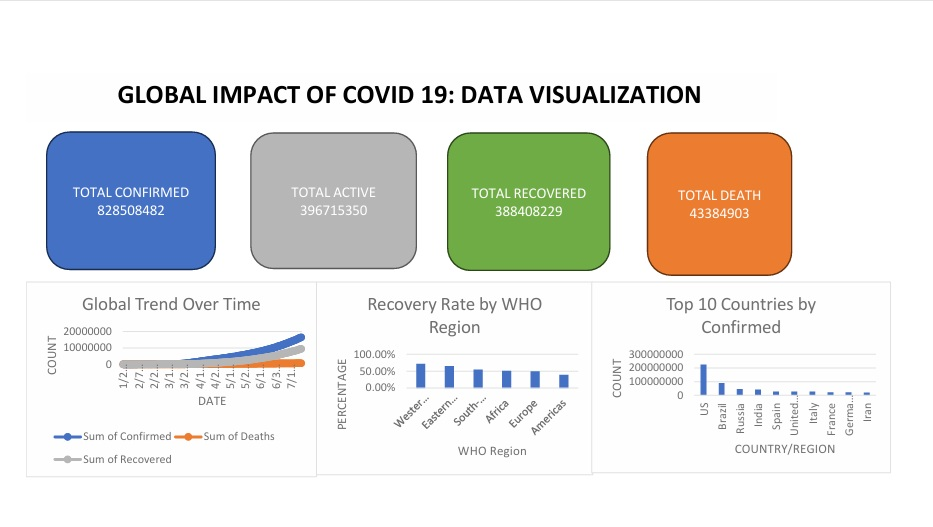

The page's visual inventory and layout, read from the dashboard file:
{"tool":"tableau","page":{"name":"GGLOBAL IMPACT OF COVID 19: DATA VISUALIZATION","canvas":[1000,1000],"units":"permille","ordinal":0},"visuals":[{"type":"text","box":[6.1,15.2,987.9,57]},{"type":"worksheet","title":"CONFIRMED","mark":"Text","box":[6.1,72.1,199.6,166]},{"type":"worksheet","title":"DEATH","mark":"Text","box":[205.6,72.1,203.9,166]},{"type":"worksheet","title":"ACTIVE","mark":"Text","box":[409.5,72.1,202.4,166]},{"type":"worksheet","title":"RECOVERED","mark":"Text","box":[611.9,72.1,202.5,166]},{"type":"filter","title":"Top 10 Countries","param":"[federated.0cqeoo61s9j46j17lc3vq15ppq27].[none:Country/Region:nk]","box":[814.4,72.1,179.6,193.1]},{"type":"worksheet","title":"Global Trend Confirmed","mark":"Line","rows":["Confirmed"],"cols":["Date"],"box":[6.1,238.2,216.7,399.3]},{"type":"worksheet","title":"Global Trend Death","mark":"Line","rows":["Deaths"],"cols":["Date"],"box":[222.7,238.2,187.4,398.5]},{"type":"worksheet","title":"Global Trend Recoverd","mark":"Line","rows":["Recovered"],"cols":["Date"],"box":[410.2,238.2,202.1,398.5]},{"type":"worksheet","title":"Map (Confirmed by Country)","mark":"Multipolygon","rows":["Lat"],"cols":["Long"],"box":[612.3,238.2,202.1,398.5]},{"type":"legend","title":"Top 10 Countries","param":"[federated.0cqeoo61s9j46j17lc3vq15ppq27].[none:Country/Region:nk]","box":[814.4,265.3,179.6,193.1]},{"type":"legend","title":"Map (Confirmed by Country)","param":"[federated.0cqeoo61s9j46j17lc3vq15ppq27].[sum:Confirmed:qk]","box":[814.4,458.4,179.6,123.1]},{"type":"legend","title":"Map (Confirmed by Country)","param":"[federated.0cqeoo61s9j46j17lc3vq15ppq27].[sum:Confirmed:qk]","box":[814.4,581.5,179.6,193.1]},{"type":"worksheet","title":"Top 10 Countries","mark":"Bar","rows":["Confirmed"],"cols":["Country/Region"],"box":[222.7,636.6,591.7,348.2]},{"type":"worksheet","title":"WHO Region Summary","mark":"Automatic","rows":["WHO Region"],"cols":["Confirmed"],"box":[6.1,637.5,216.7,347.4]},{"type":"legend","title":"WHO Region Summary","param":"[federated.0cqeoo61s9j46j17lc3vq15ppq27].[none:WHO Region:nk]","box":[814.4,774.6,179.6,210.2]}]}

Visuals, with their boxes on the dashboard's canvas, which has no fixed pixel size, in thousandths of its width and height (x1, y1, x2, y2). These are canvas units, not pixel positions in the 933x527 screenshot, which may show the page scaled, cropped or inside an application window:
text: [6, 15, 994, 72]
"CONFIRMED" worksheet (Text marks): [6, 72, 206, 238]
"DEATH" worksheet (Text marks): [206, 72, 410, 238]
"ACTIVE" worksheet (Text marks): [410, 72, 612, 238]
"RECOVERED" worksheet (Text marks): [612, 72, 814, 238]
"Top 10 Countries" filter: [814, 72, 994, 265]
"Global Trend Confirmed" worksheet (Line marks): [6, 238, 223, 638]
"Global Trend Death" worksheet (Line marks): [223, 238, 410, 637]
"Global Trend Recoverd" worksheet (Line marks): [410, 238, 612, 637]
"Map (Confirmed by Country)" worksheet (Multipolygon marks): [612, 238, 814, 637]
"Top 10 Countries" legend: [814, 265, 994, 458]
"Map (Confirmed by Country)" legend: [814, 458, 994, 582]
"Map (Confirmed by Country)" legend: [814, 582, 994, 775]
"Top 10 Countries" worksheet (Bar marks): [223, 637, 814, 985]
"WHO Region Summary" worksheet: [6, 638, 223, 985]
"WHO Region Summary" legend: [814, 775, 994, 985]
